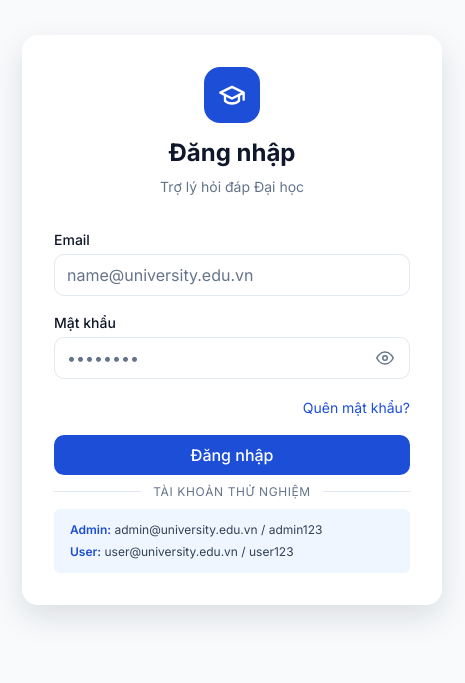
Test: LoginForm › hiện thông báo khi bấm quên mật khẩu, không dùng console.log
The image size is (465, 683).
Click the button "Quên mật khẩu?" at (356, 407), box [303,399,410,416]
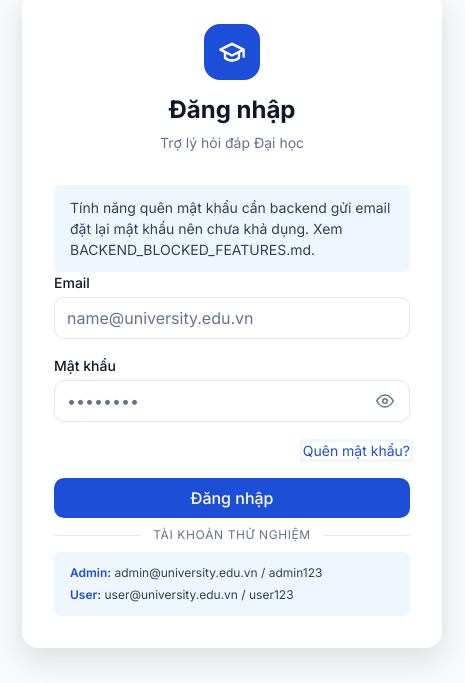
Expected: the message is shown, [54,185,410,272]
